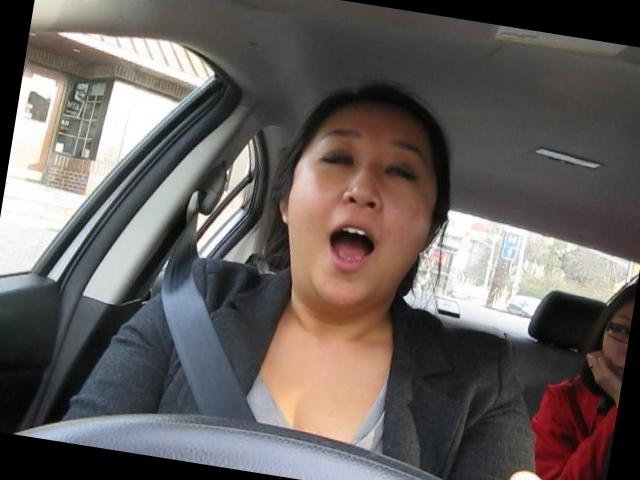eye_closed: (311, 142, 363, 176), (379, 158, 422, 188)
face: (274, 113, 438, 319)
mouth_open: (315, 215, 387, 280)
